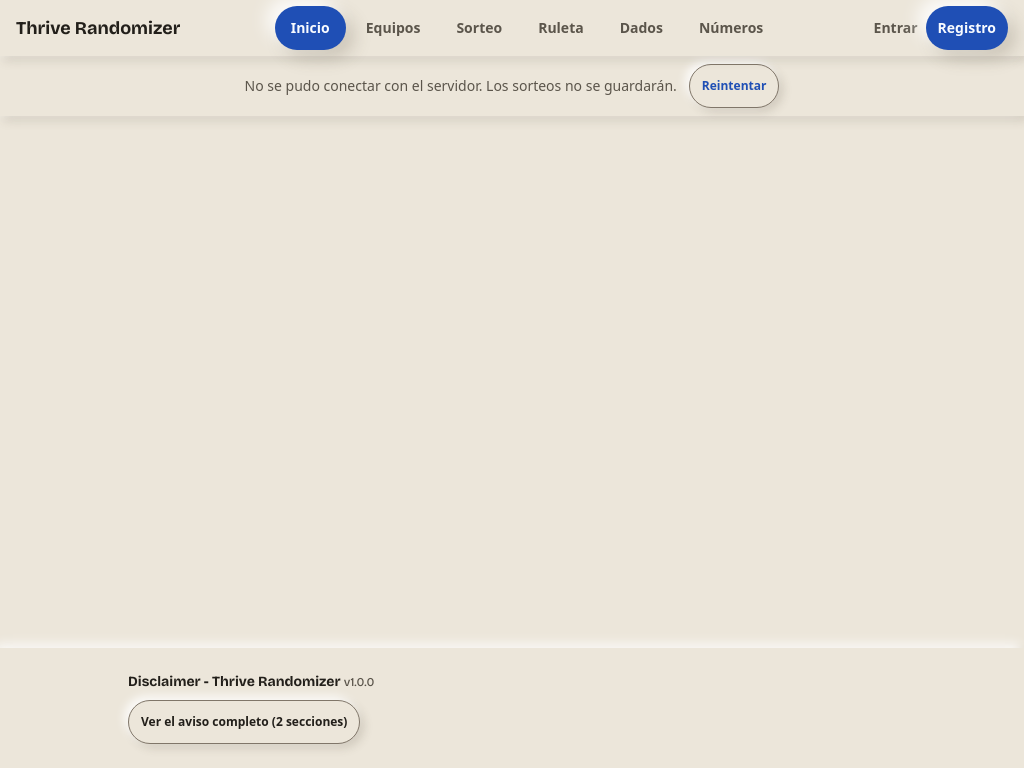
Test: RootLayout — disclaimer › las secciones se ven al abrir el details
This screenshot has width=1024, height=768.
Click the heading "Ver el aviso completo (2 secciones)" at (244, 722), box left=128, top=700, right=360, bottom=744
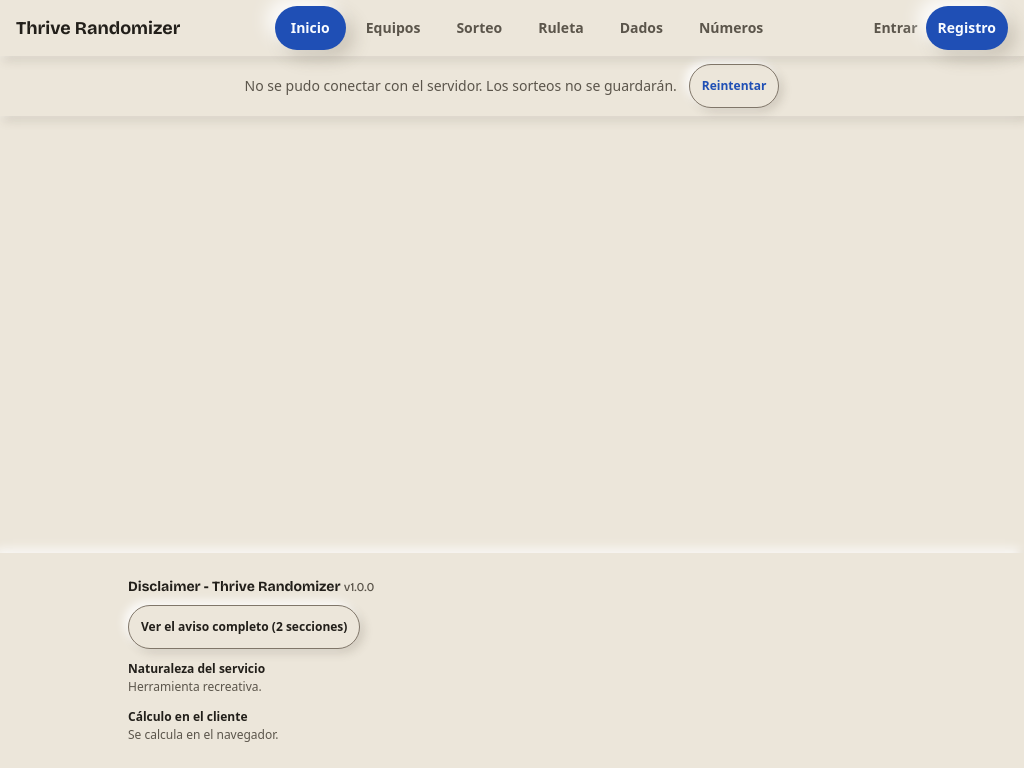
Expected: the text "Cálculo en el cliente" is shown, left=128, top=708, right=248, bottom=724
Expected: the text "Se calcula en el navegador." is shown, left=128, top=726, right=278, bottom=742
